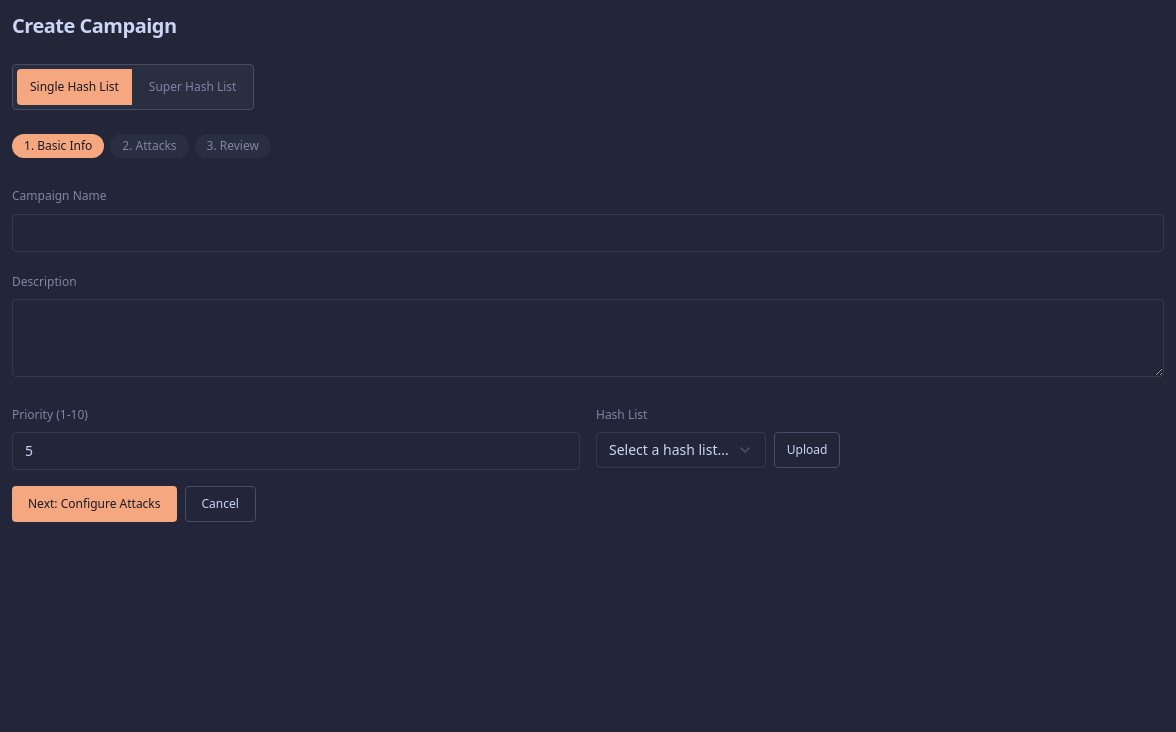
it: CampaignCreatePage — super target › shows a loading state for supers, not the empty message, while the query is in flight
Expected: the heading "Create Campaign" is shown, [12,12,177,39]
Click the radio button "Super Hash List" at [193, 87], box [136,69,249,105]
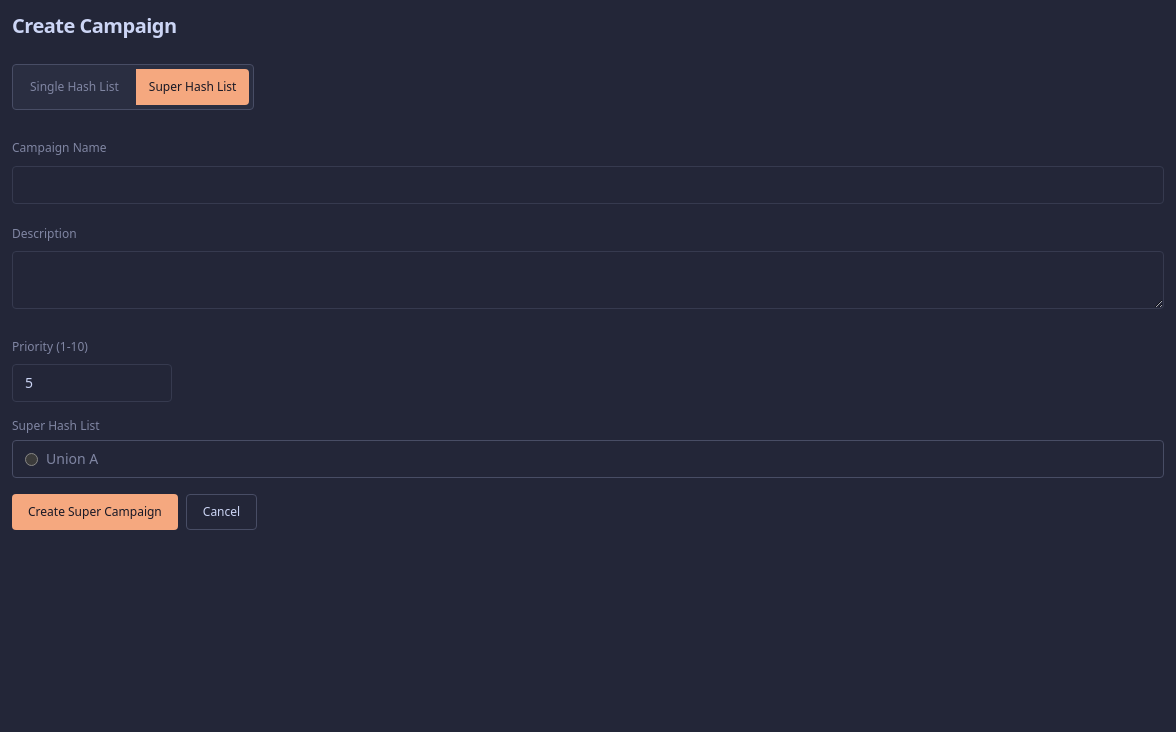
Expected: the radio button labelled "Union A" is shown, [25,453,38,466]
